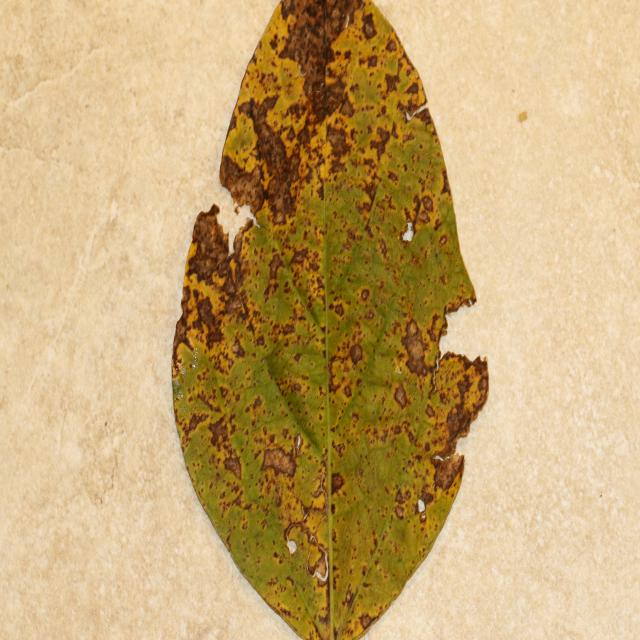Bacterial_Blight: (220, 129, 265, 214), (276, 13, 319, 67), (271, 74, 306, 132), (401, 320, 430, 376), (266, 170, 297, 222), (444, 394, 475, 443), (432, 451, 466, 493), (323, 123, 353, 163), (260, 446, 297, 478), (195, 295, 222, 338), (232, 217, 256, 265), (367, 123, 393, 164), (173, 308, 194, 355), (324, 77, 348, 112), (181, 410, 207, 442), (302, 67, 324, 103), (411, 193, 434, 225), (209, 417, 230, 447), (279, 63, 298, 94), (222, 267, 240, 299), (360, 179, 379, 208), (312, 549, 329, 581), (310, 471, 328, 500), (383, 70, 401, 96), (267, 254, 283, 283), (223, 455, 242, 479), (225, 295, 243, 317), (362, 15, 378, 39), (290, 247, 307, 266), (394, 385, 408, 408), (395, 487, 411, 506), (349, 343, 363, 363), (331, 472, 344, 493), (359, 612, 373, 630), (231, 339, 245, 356), (406, 319, 419, 337), (477, 375, 488, 396), (422, 490, 434, 506), (332, 301, 344, 316), (425, 404, 436, 418), (334, 442, 344, 457), (364, 308, 375, 321), (317, 613, 328, 626), (394, 505, 404, 519), (438, 234, 448, 247), (361, 288, 370, 302), (343, 384, 352, 397), (292, 381, 302, 392), (393, 423, 402, 434), (175, 358, 183, 370), (424, 442, 430, 451)
Soybean: (170, 0, 490, 640)
